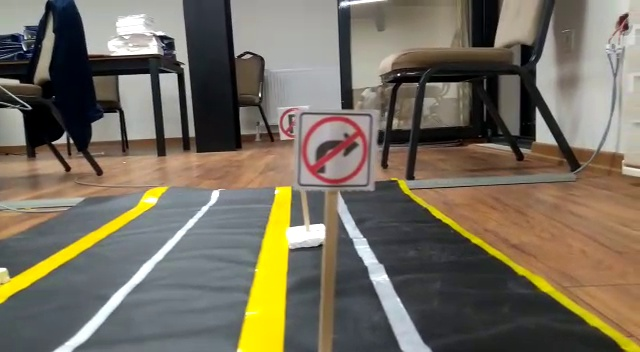saga_donulmez: (298, 112, 372, 186)
